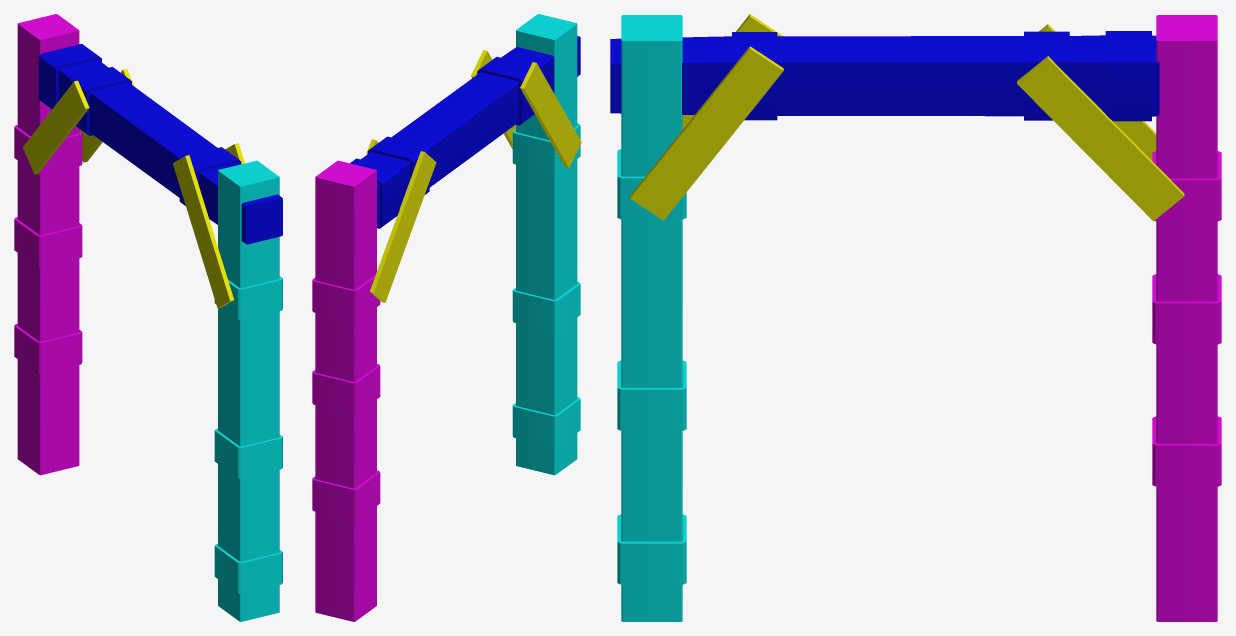
The model's file is Poteau_Arche.fbx.
The picture shows the model from 3 angles, left to right: view 1: azimuth 30°, elevation 25°; view 2: azimuth 150°, elevation 25°; view 3: azimuth 270°, elevation 25°; orthographic projection. The views are drawn at different scales.
Parts seen in each view (by area): view 1: Poteau_arche; view 2: Poteau_arche; view 3: Poteau_arche.
Part boxes in pixels (x1,y1,x2,y2): Poteau_arche: [14, 14, 283, 621]; Poteau_arche: [312, 14, 581, 621]; Poteau_arche: [610, 14, 1221, 621].
Size of the model in its own units: 0.403 by 3.14 by 2.99.
